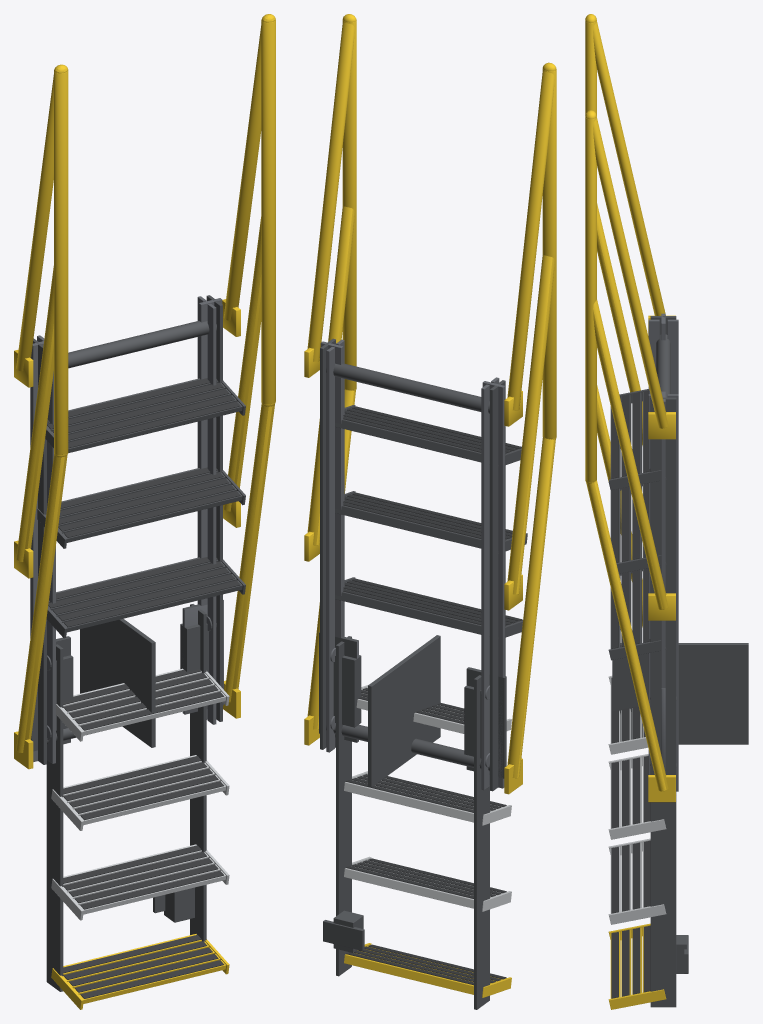
The model's file is stepsync-ladder.glb.
The picture shows the model from 3 angles, left to right: view 1: azimuth 30°, elevation 25°; view 2: azimuth 150°, elevation 25°; view 3: azimuth 270°, elevation 25°; orthographic projection. The views are drawn at different scales.
Parts seen in each view (by area): view 1: UPPER__Degraus_Superiores, UPPER__Corrimao_Fixo_E, UPPER__Corrimao_Fixo_D, LOWER__Carro_Elevacao, LOWER__Degrau_Inf_z650, LOWER__Degrau_Inf_Amarelo, LOWER__Degrau_Inf_z900, UPPER__Longarina_Guia_D, LOWER__Degrau_Inf_z1150, UPPER__Longarina_Guia_E, LOWER__Lance_Inf_E, LOWER__Lance_Inf_D (+1 smaller); view 2: UPPER__Corrimao_Fixo_E, UPPER__Corrimao_Fixo_D, UPPER__Degraus_Superiores, LOWER__Carro_Elevacao, UPPER__Longarina_Guia_E, UPPER__Longarina_Guia_D, LOWER__Lance_Inf_D, LOWER__Lance_Inf_E, UPPER__Travessas_Frame, LOWER__Degrau_Inf_z650, LOWER__Degrau_Inf_Amarelo, LOWER__Degrau_Inf_z900 (+1 smaller); view 3: UPPER__Corrimao_Fixo_D, LOWER__Carro_Elevacao, UPPER__Longarina_Guia_D, UPPER__Degraus_Superiores, UPPER__Corrimao_Fixo_E, LOWER__Lance_Inf_D, LOWER__Degrau_Inf_Amarelo, LOWER__Degrau_Inf_z650, LOWER__Degrau_Inf_z900, LOWER__Degrau_Inf_z1150, UPPER__Longarina_Guia_E, UPPER__Travessas_Frame.
Boxes of the visible parts, left/top/right/bottom form: UPPER__Degraus_Superiores: left=37, top=378, right=245, bottom=638; UPPER__Corrimao_Fixo_E: left=14, top=64, right=68, bottom=769; UPPER__Corrimao_Fixo_D: left=222, top=14, right=275, bottom=718; LOWER__Carro_Elevacao: left=31, top=600, right=223, bottom=922; LOWER__Degrau_Inf_z650: left=51, top=844, right=229, bottom=920; LOWER__Degrau_Inf_Amarelo: left=51, top=934, right=229, bottom=1009; LOWER__Degrau_Inf_z900: left=51, top=755, right=229, bottom=830; UPPER__Longarina_Guia_D: left=197, top=295, right=222, bottom=724; LOWER__Degrau_Inf_z1150: left=56, top=668, right=229, bottom=741; UPPER__Longarina_Guia_E: left=30, top=335, right=55, bottom=764; LOWER__Lance_Inf_E: left=46, top=644, right=73, bottom=991; LOWER__Lance_Inf_D: left=180, top=604, right=208, bottom=941; UPPER__Corrimao_Fixo_E: left=504, top=62, right=556, bottom=794; UPPER__Corrimao_Fixo_D: left=304, top=14, right=356, bottom=745; UPPER__Degraus_Superiores: left=335, top=405, right=527, bottom=639; LOWER__Carro_Elevacao: left=319, top=632, right=506, bottom=952; UPPER__Longarina_Guia_E: left=481, top=377, right=505, bottom=791; UPPER__Longarina_Guia_D: left=320, top=338, right=344, bottom=752; LOWER__Lance_Inf_D: left=333, top=636, right=361, bottom=976; LOWER__Lance_Inf_E: left=464, top=675, right=489, bottom=1009; UPPER__Travessas_Frame: left=326, top=363, right=489, bottom=771; LOWER__Degrau_Inf_z650: left=344, top=856, right=511, bottom=911; LOWER__Degrau_Inf_Amarelo: left=344, top=943, right=511, bottom=997; LOWER__Degrau_Inf_z900: left=344, top=771, right=511, bottom=825; UPPER__Corrimao_Fixo_D: left=585, top=110, right=675, bottom=802; LOWER__Carro_Elevacao: left=612, top=643, right=748, bottom=973; UPPER__Longarina_Guia_D: left=648, top=391, right=678, bottom=794; UPPER__Degraus_Superiores: left=608, top=389, right=666, bottom=660; UPPER__Corrimao_Fixo_E: left=585, top=14, right=675, bottom=627; LOWER__Lance_Inf_D: left=650, top=795, right=676, bottom=1007; LOWER__Degrau_Inf_Amarelo: left=608, top=923, right=666, bottom=1009; LOWER__Degrau_Inf_z650: left=608, top=838, right=666, bottom=924; LOWER__Degrau_Inf_z900: left=608, top=754, right=666, bottom=839; LOWER__Degrau_Inf_z1150: left=608, top=676, right=648, bottom=754; UPPER__Longarina_Guia_E: left=648, top=313, right=678, bottom=393; UPPER__Travessas_Frame: left=656, top=334, right=670, bottom=397.
Size of the model in its own units: 0.66 by 2.74 by 0.4455.
